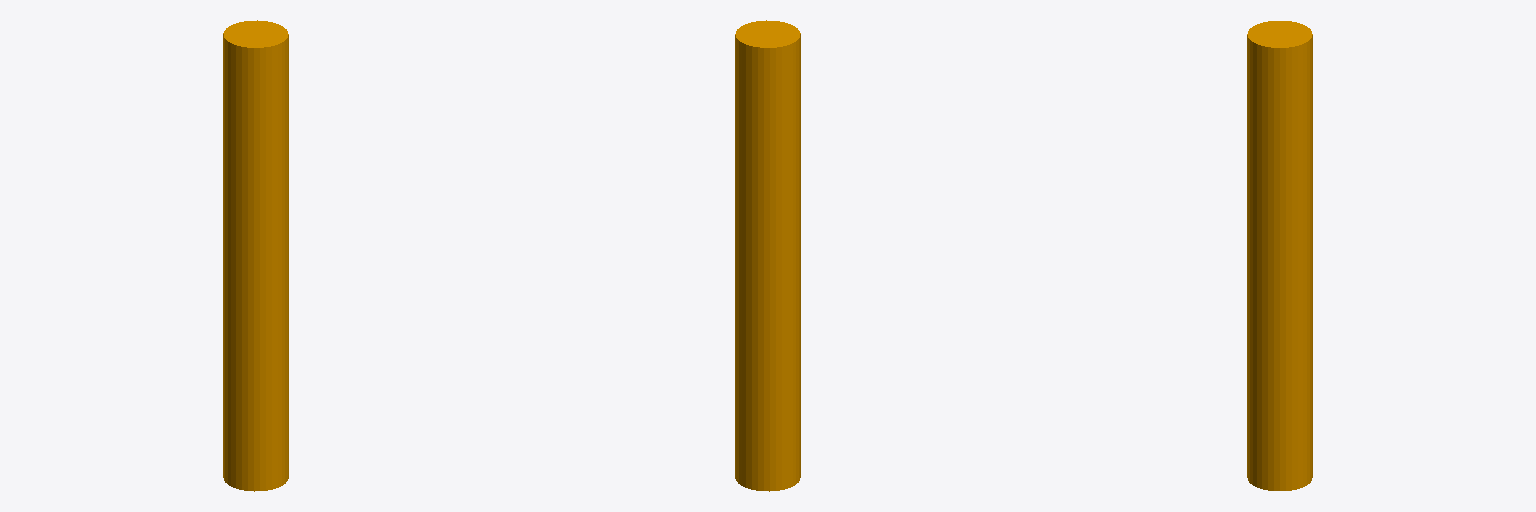
URDF robot description (cylinder_robot):
<robot name="cylinder_robot">
  <pose>0 1 0 0 0 0</pose>
  <link name="cylinder_link">
    <inertial>
      <mass value="1" />
      <inertia  ixx="0.19" ixy="0.0"  ixz="0.0"  iyy="0.19"  iyz="0.0"  izz="0.005" />
    </inertial>
    <collision name="cylinder_collision">
      <geometry>
        <cylinder length="1.5" radius="0.1"/>
      </geometry>
    </collision>
    <visual name="visual">
      <geometry>
        <cylinder length="1.5" radius="0.1"/>
      </geometry>
    </visual>
    <sensor name='my_contact' type='contact'>
    <plugin name="my_plugin" filename="libcontact.so"/>
      <contact>
        <collision>cylinder_collision</collision>
      </contact>
      <update_rate> 100 </update_rate>
    </sensor>
  </link>
  <gazebo reference="block">
    <sensor name='my_contact' type='contact'>
    <plugin name="my_plugin" filename="libcontact.so"/>
      <contact>
        <collision>cylinder_collision</collision>
      </contact>
      <update_rate> 100 </update_rate>
    </sensor>
  </gazebo>
</robot>


<!-- <robot name="block">
  <link name="block">
    <inertial>
      <mass value="1" />
      <inertia  ixx="0.19" ixy="0.0"  ixz="0.0"  iyy="0.19"  iyz="0.0"  izz="0.005" />
    </inertial>
    <visual>
      <geometry>
        <cylinder length="1.5" radius="0.1"/>
      </geometry>
    </visual>
    <collision>
      <geometry>
        <cylinder length="1.5" radius="0.1"/>
      </geometry>
    </collision>
  </link>
  <gazebo reference="block">
    <material>Gazebo/Blue</material>
     <mu1>10</mu1>
     <mu2>10</mu2>
  </gazebo>
</robot> -->

--- What the picture shows (computed from the rendered views, not written in the file) ---
Views: 3 orthographic renders of the robot side by side, from view 1: azimuth 30°, elevation 25°; view 2: azimuth 150°, elevation 25°; view 3: azimuth 270°, elevation 25°.
Model cylinder_robot with 1 links and 0 joints (none), rooted at cylinder_link, posed every joint at zero.
Visible links, largest first — view 1: cylinder_link; view 2: cylinder_link; view 3: cylinder_link.
Boxes of the visible links, left/top/right/bottom form: cylinder_link: left=223, top=20, right=288, bottom=491; cylinder_link: left=735, top=20, right=800, bottom=491; cylinder_link: left=1247, top=21, right=1312, bottom=490.
Size in the robot's own frame: 0.2 by 0.2 by 1.5 metres.
Geometry: primitives only (box / cylinder / sphere), no mesh files.